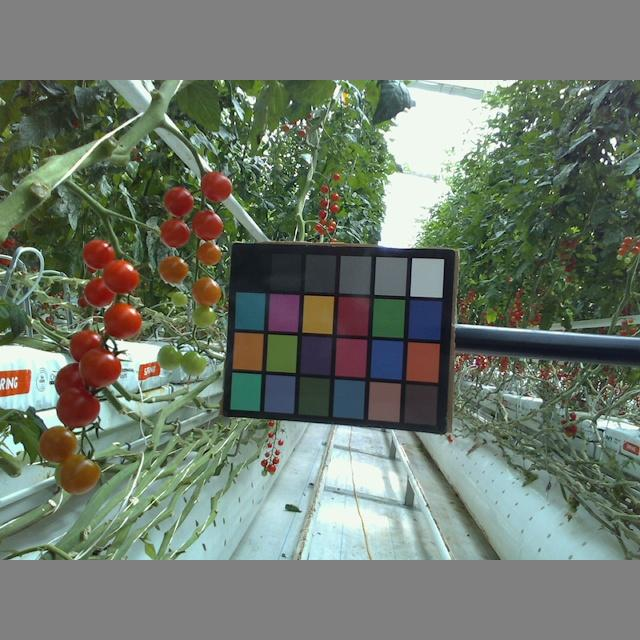green: (157, 346, 181, 371), (181, 352, 208, 374), (193, 309, 215, 327), (171, 293, 187, 308)
pink: (59, 454, 99, 494), (39, 426, 79, 464), (156, 256, 191, 285), (194, 276, 222, 307), (192, 241, 223, 265)
red: (55, 387, 100, 428), (77, 347, 120, 386), (108, 301, 149, 337), (103, 258, 141, 296), (68, 331, 114, 361), (81, 233, 118, 268), (190, 209, 228, 242), (157, 219, 192, 252), (163, 181, 194, 216), (204, 167, 233, 202)
